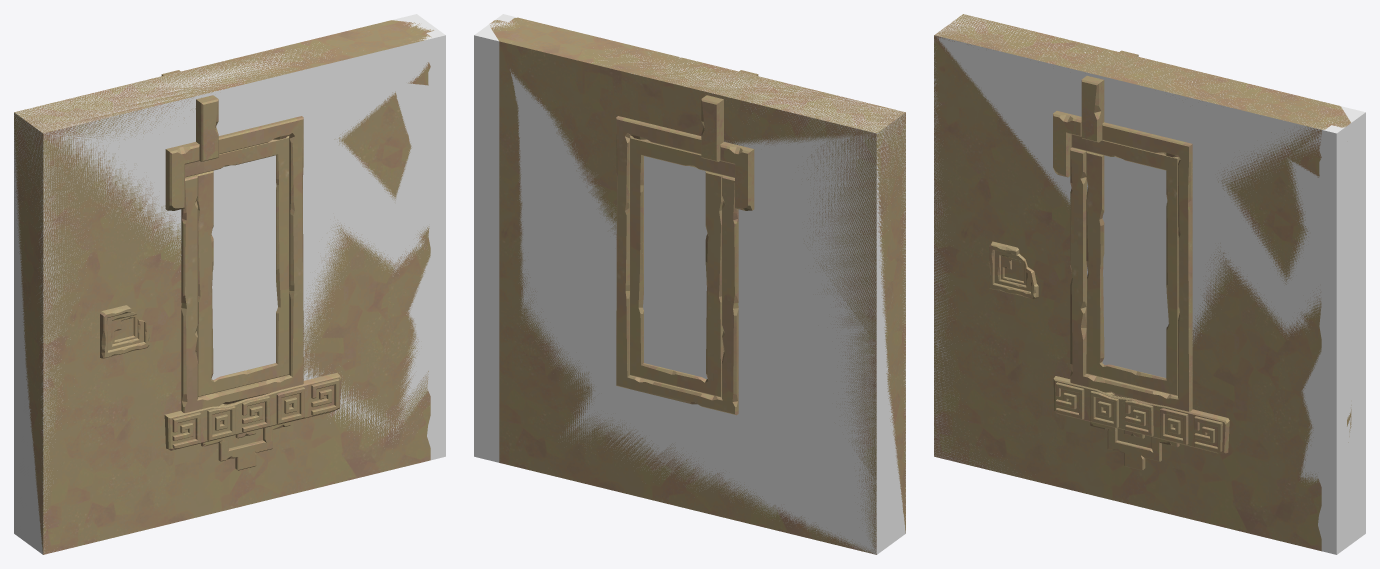
File: Window_Intact_Corner_R.fbx
3 views of the same model, side by side, from view 1: azimuth 30°, elevation 25°; view 2: azimuth 150°, elevation 25°; view 3: azimuth 330°, elevation 25° (orthographic).
Visible parts, largest first — view 1: Window_Corner_R, Window_Corner_R_COL, WR_Frame, WR_Detail_Rectangle, WR_Detail_Square, WR_Detail_Trim; view 2: Window_Corner_R_COL, Window_Corner_R, WR_Frame; view 3: Window_Corner_R, Window_Corner_R_COL, WR_Frame, WR_Detail_Rectangle, WR_Detail_Square, WR_Detail_Trim.
Part boxes in pixels (<box>): Window_Corner_R: <box>14,20,433,554</box>; Window_Corner_R_COL: <box>14,14,445,554</box>; WR_Frame: <box>161,70,303,412</box>; WR_Detail_Rectangle: <box>164,372,341,450</box>; WR_Detail_Square: <box>100,305,149,358</box>; WR_Detail_Trim: <box>201,402,290,470</box>; Window_Corner_R_COL: <box>474,14,905,554</box>; Window_Corner_R: <box>490,17,905,554</box>; WR_Frame: <box>616,70,758,415</box>; Window_Corner_R: <box>934,14,1351,551</box>; Window_Corner_R_COL: <box>934,14,1365,554</box>; WR_Frame: <box>1053,50,1192,411</box>; WR_Detail_Rectangle: <box>1053,376,1229,453</box>; WR_Detail_Square: <box>989,241,1038,299</box>; WR_Detail_Trim: <box>1090,394,1179,470</box>.
Bounding box in the file's own units: 400 × 400 × 70.81.
